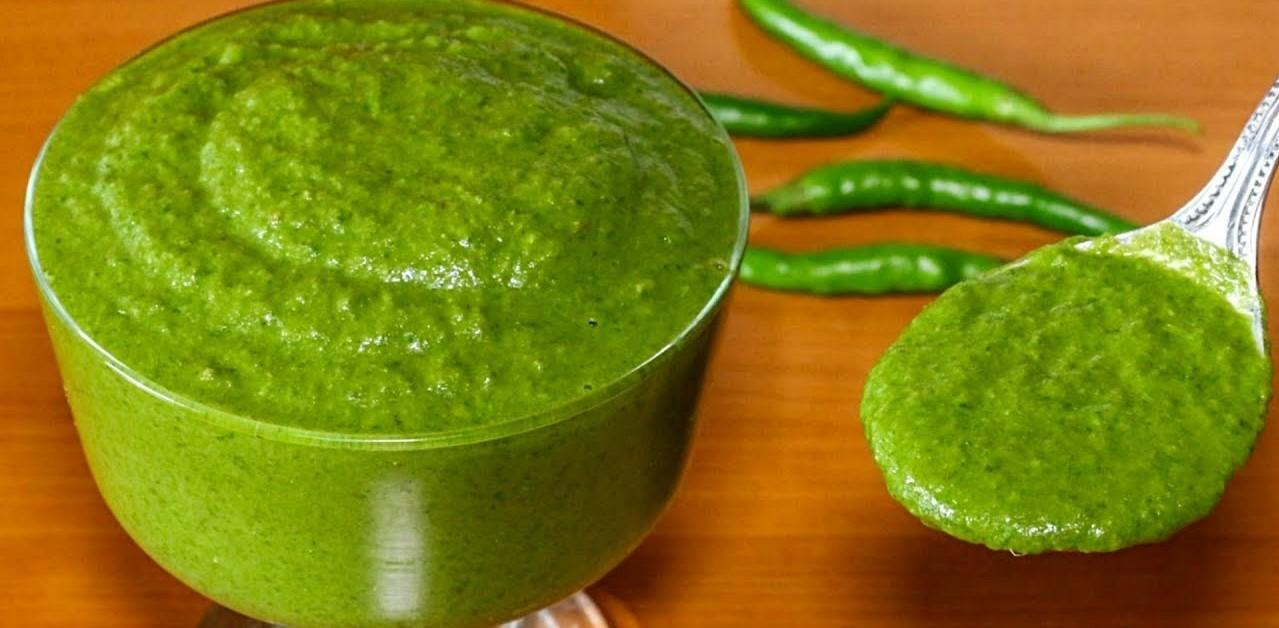GreenChutney: (27, 0, 738, 628), (858, 244, 1271, 551)
